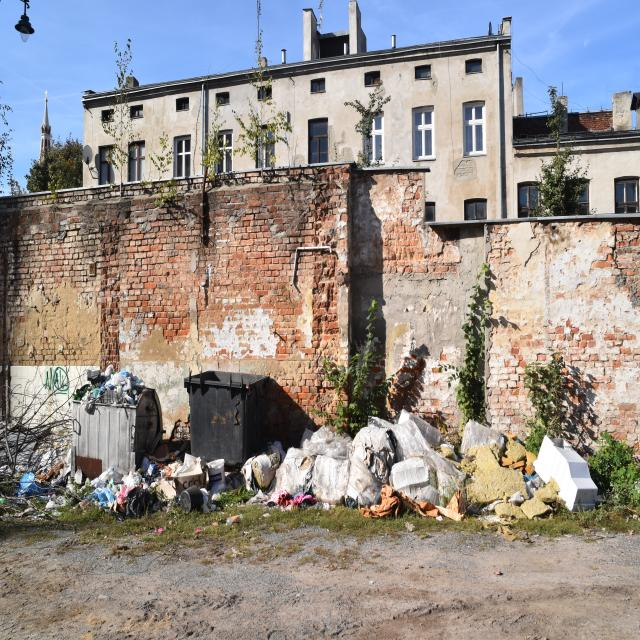entulho: (396, 408, 472, 526), (462, 410, 538, 523), (307, 420, 397, 509), (528, 418, 598, 524), (274, 421, 351, 510), (240, 440, 282, 496)
lixo domiciliar: (87, 465, 166, 516), (171, 454, 230, 514), (80, 366, 146, 410), (15, 448, 73, 498), (154, 438, 191, 507), (49, 473, 96, 521)
